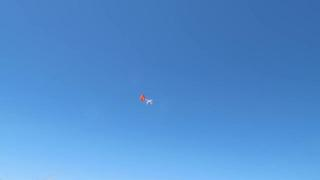UAV: (146, 99, 152, 105)
